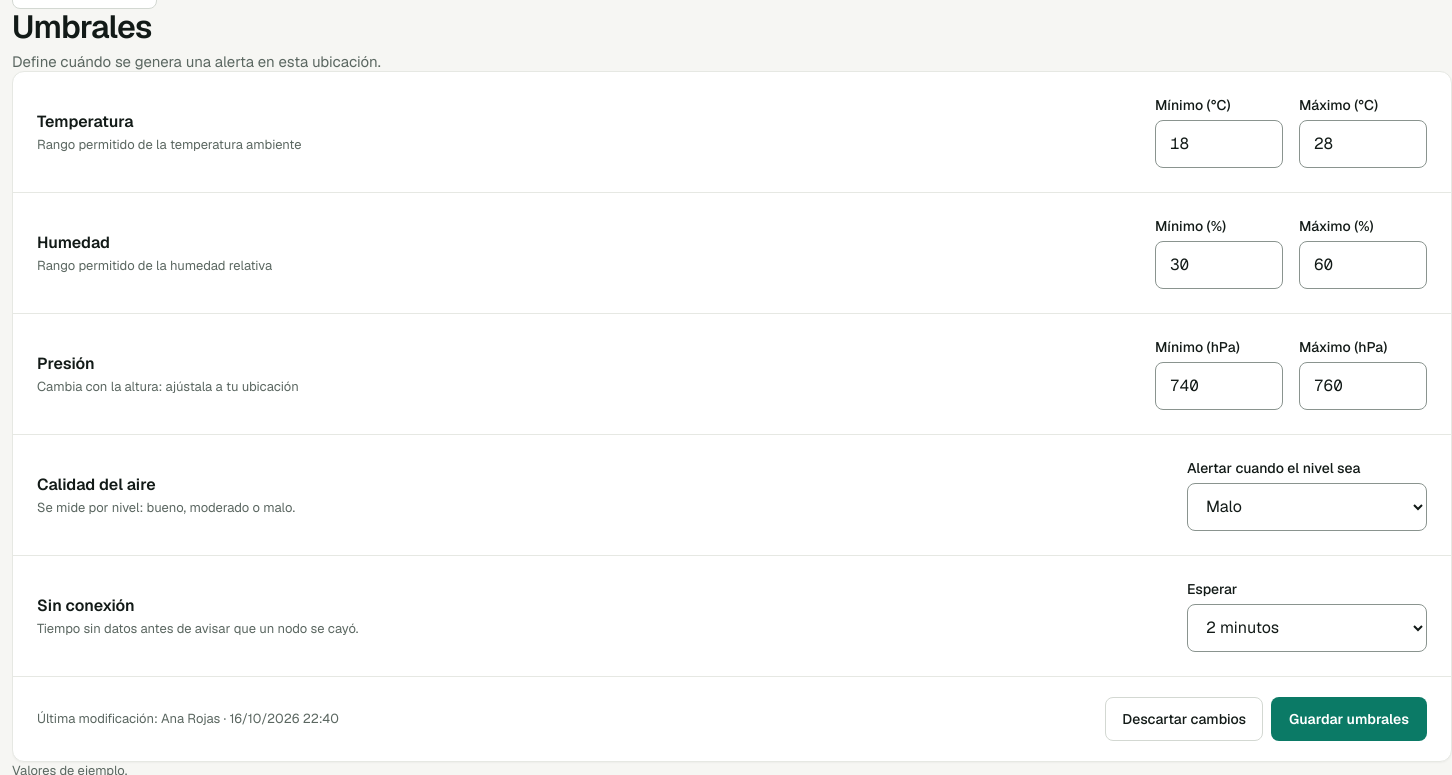
Test case: Umbrales › descarta un rango inválido sin enviar una petición
Clear the number field named "Temperatura: mínimo (°C)": (1219, 144) [1155,120,1283,168]
(page scrolled)
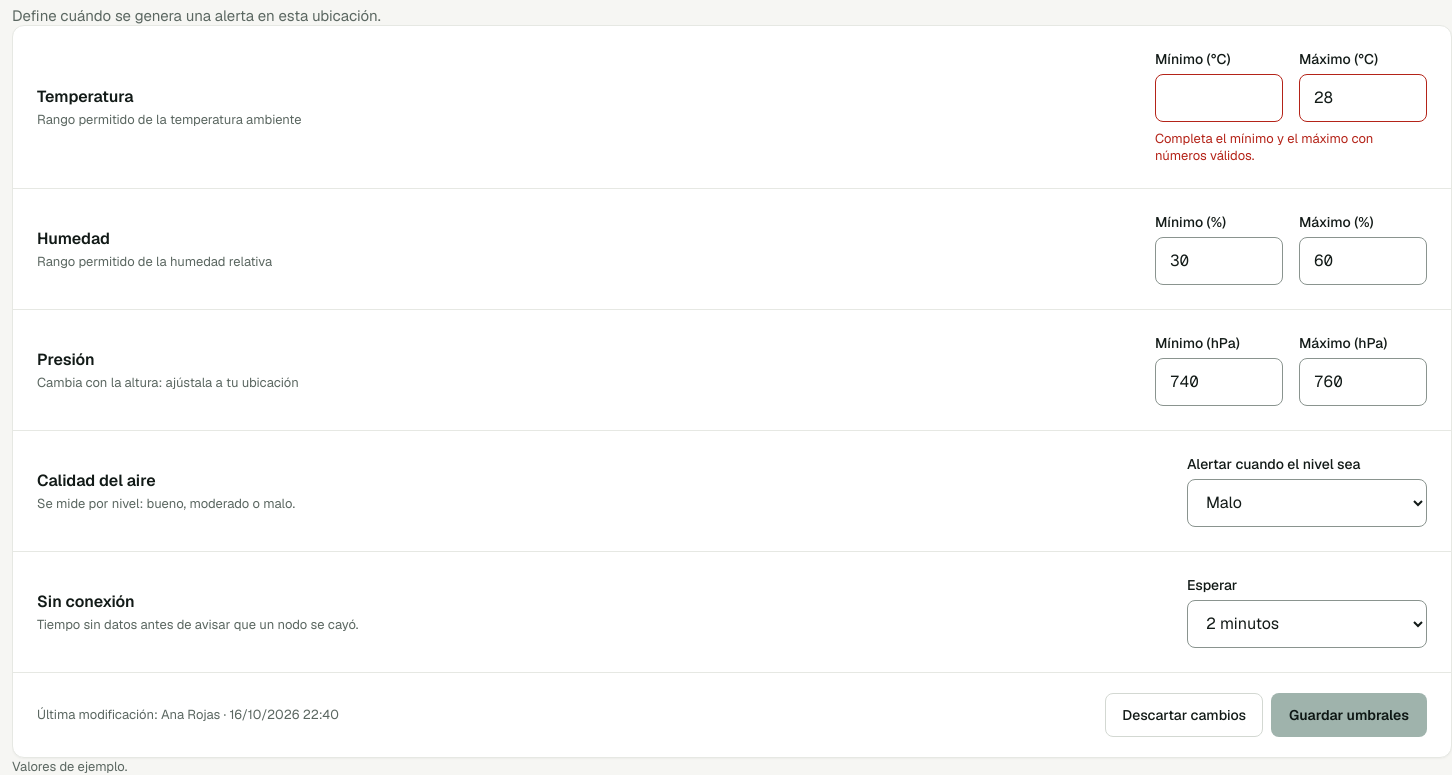
Click the button "Descartar cambios": (1184, 715) [1105,693,1263,737]
(page scrolled)
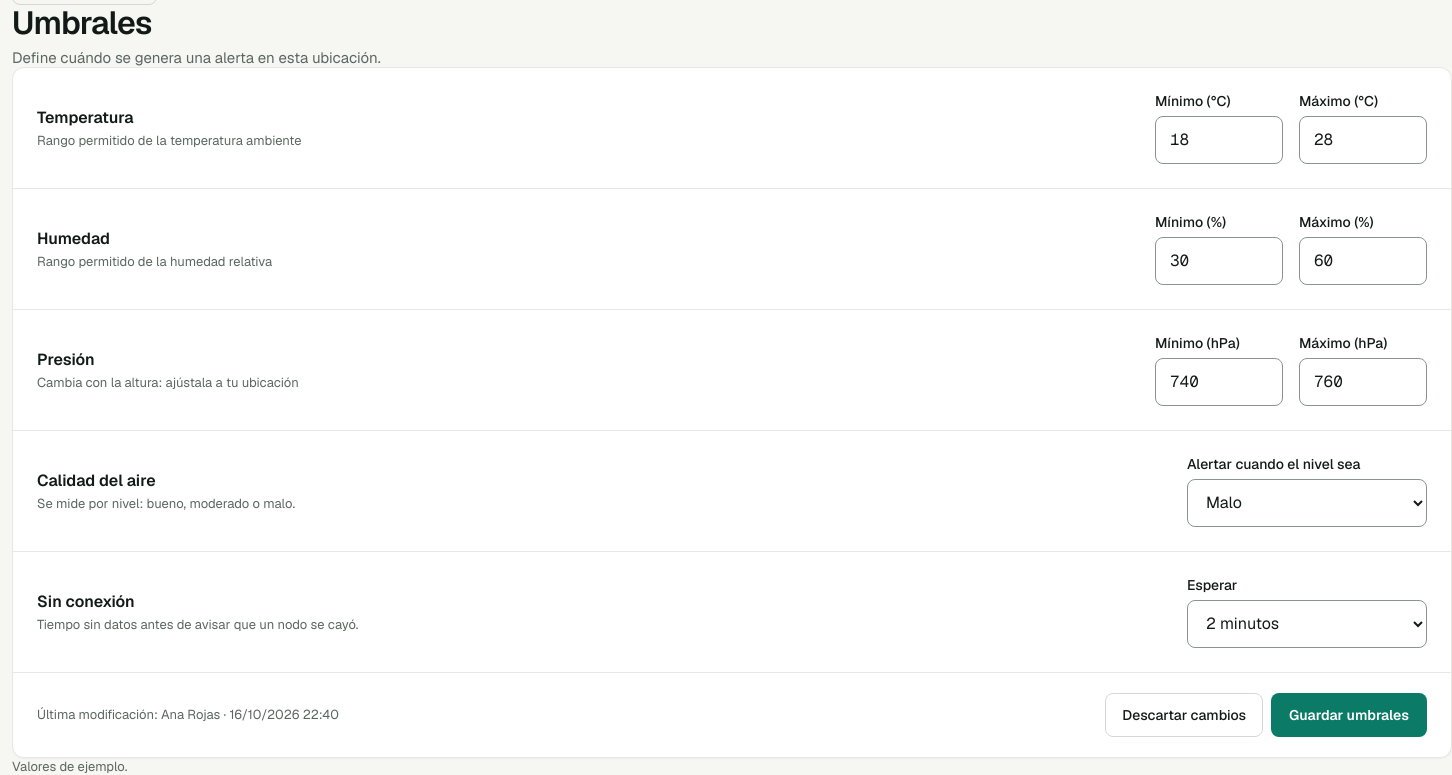
Expected: the number field named "Temperatura: mínimo (°C)" holds "18", [1155,116,1283,164]
Expected: the button "Guardar umbrales" is enabled, [1271,693,1427,737]
